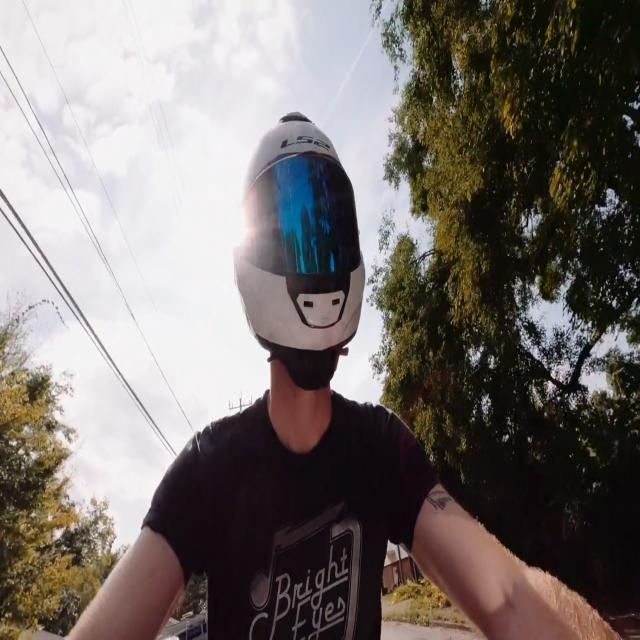Helmet_Wearer: (222, 116, 369, 407)
Person: (65, 111, 535, 640)
